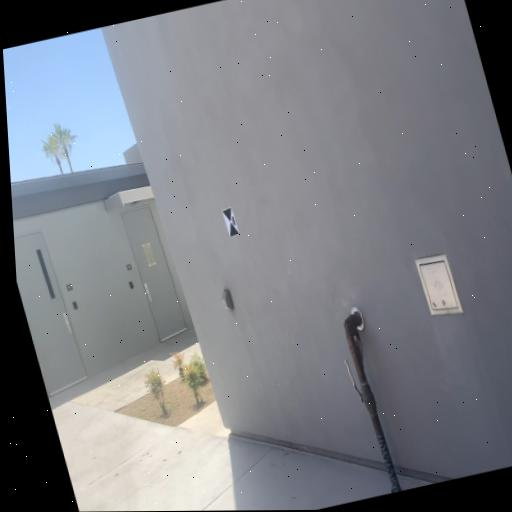target8: (221, 206, 241, 236)
